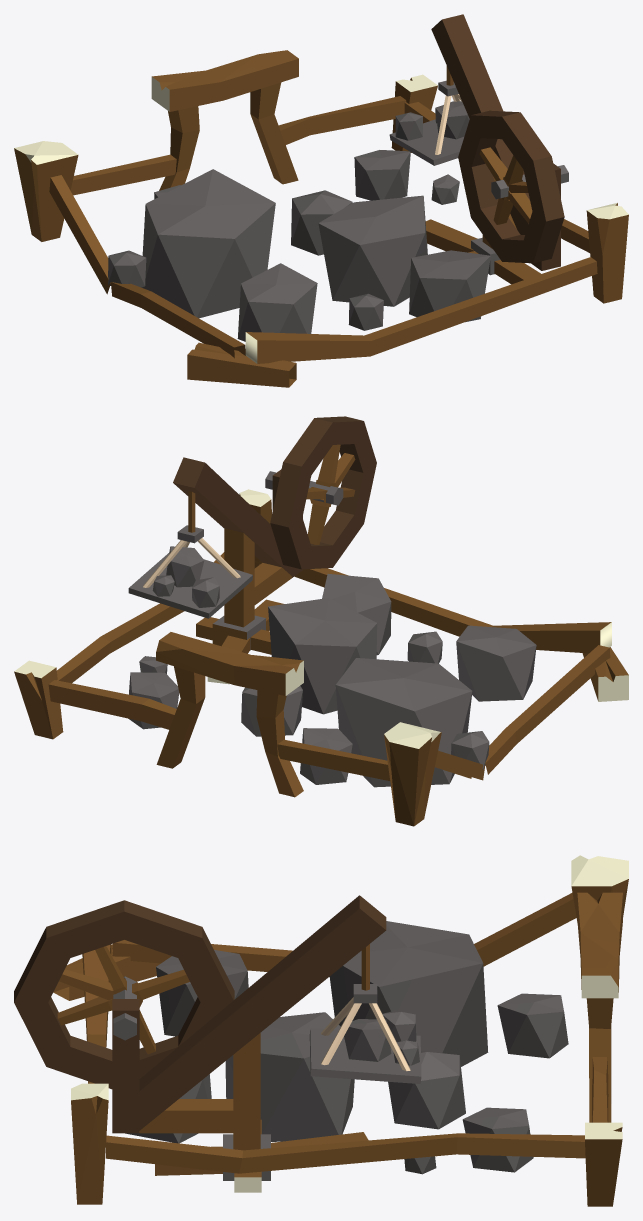
The model's file is RESERVE PIERRE 4.fbx.
3 renders of one model, top to bottom at view 1: azimuth 30°, elevation 25°; view 2: azimuth 150°, elevation 25°; view 3: azimuth 270°, elevation 25°, orthographic. The views are drawn at different scales.
Parts seen in each view (by area): view 1: Cube.011; view 2: Cube.011; view 3: Cube.011.
Part boxes in pixels (bbox=[...]): Cube.011: bbox=[14, 14, 628, 387]; Cube.011: bbox=[14, 416, 628, 826]; Cube.011: bbox=[14, 855, 628, 1206].
Size of the model in its own units: 600 by 315 by 600.
